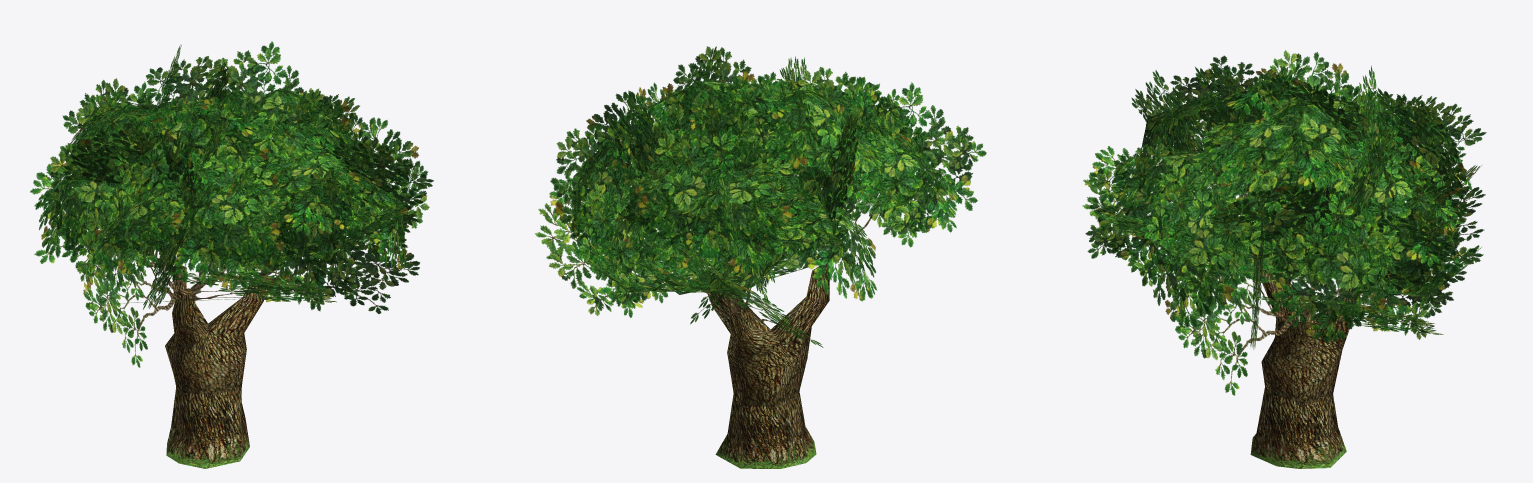
The model's file is TREE_05.glb.
3 views of the same model, side by side, from view 1: azimuth 30°, elevation 25°; view 2: azimuth 150°, elevation 25°; view 3: azimuth 270°, elevation 25° (orthographic). The views are drawn at different scales.
Visible parts, largest first — view 1: TREE_05; view 2: TREE_05; view 3: TREE_05.
Boxes of the visible parts, x1,y1,x2,y2 form: TREE_05: (30, 41, 433, 468); TREE_05: (535, 46, 986, 468); TREE_05: (1082, 50, 1486, 468).
Bounding box in the file's own units: 18.69 × 16.07 × 17.27.
4 materials, 4 textured.
